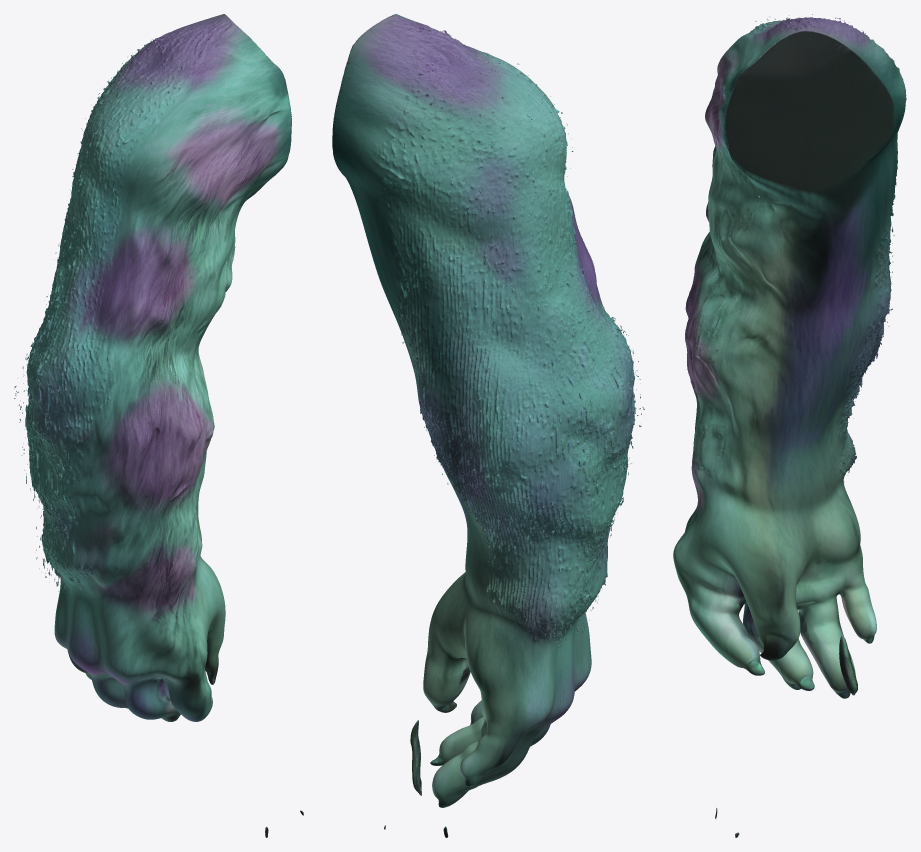
The model's file is limb_07.glb.
3 renders of one model, left to right at view 1: azimuth 30°, elevation 25°; view 2: azimuth 150°, elevation 25°; view 3: azimuth 270°, elevation 25°, orthographic. The views are drawn at different scales.
Bounding box in the file's own units: 0.6447 × 1.9 × 0.5063.
Materials: 1 (1 with a texture image).
